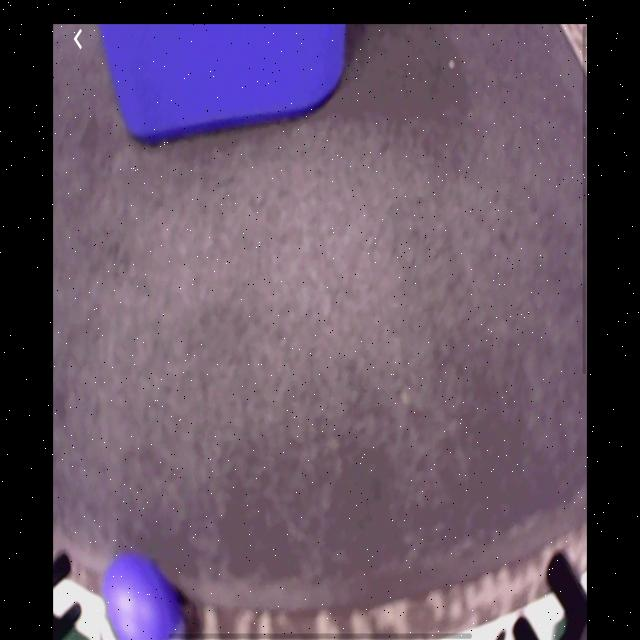ball: (105, 556, 182, 640)
